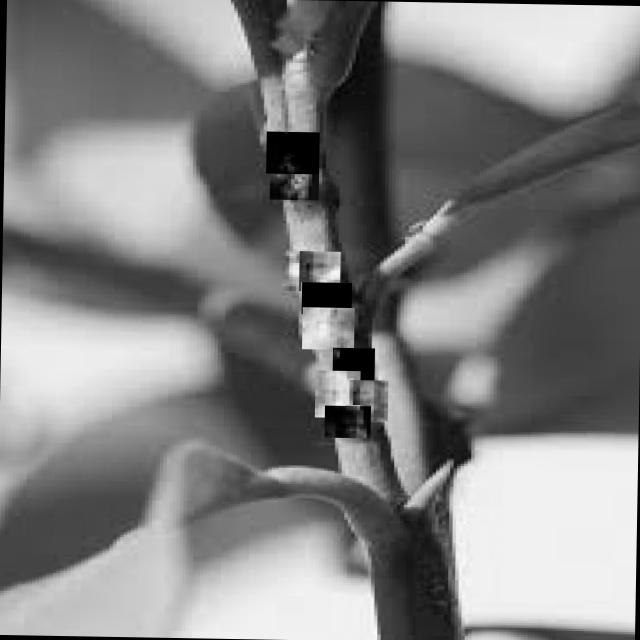scale_insect: (301, 306, 354, 349), (264, 132, 318, 174), (313, 370, 359, 418), (344, 380, 387, 423), (298, 250, 341, 292), (331, 347, 374, 387), (268, 167, 318, 200), (300, 282, 351, 314), (322, 405, 370, 438)
